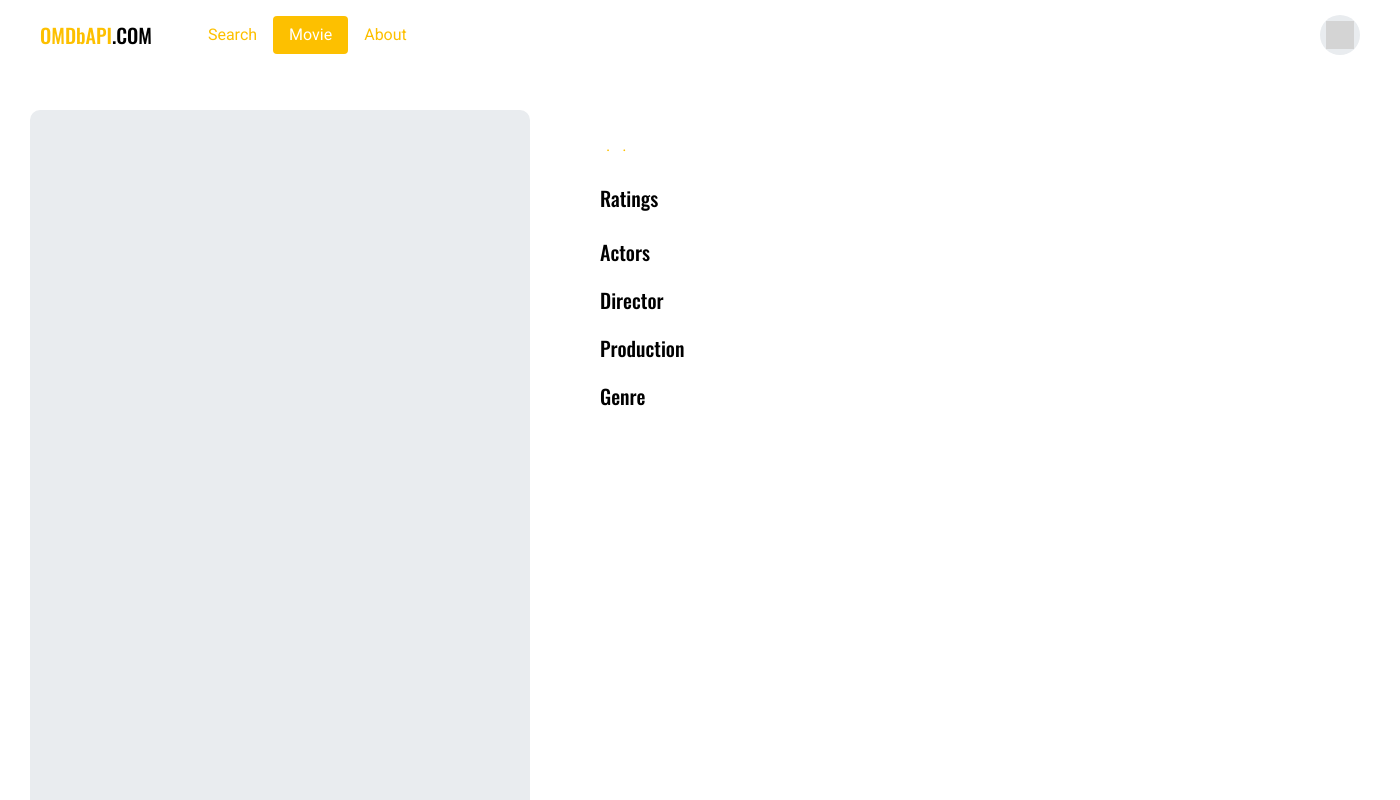
Test: About 페이지 이동 › 로고를 통해 About 페이지 이동
Step 1. Click the element with class "user" → click(1340, 35), box [1320, 15, 1360, 55]
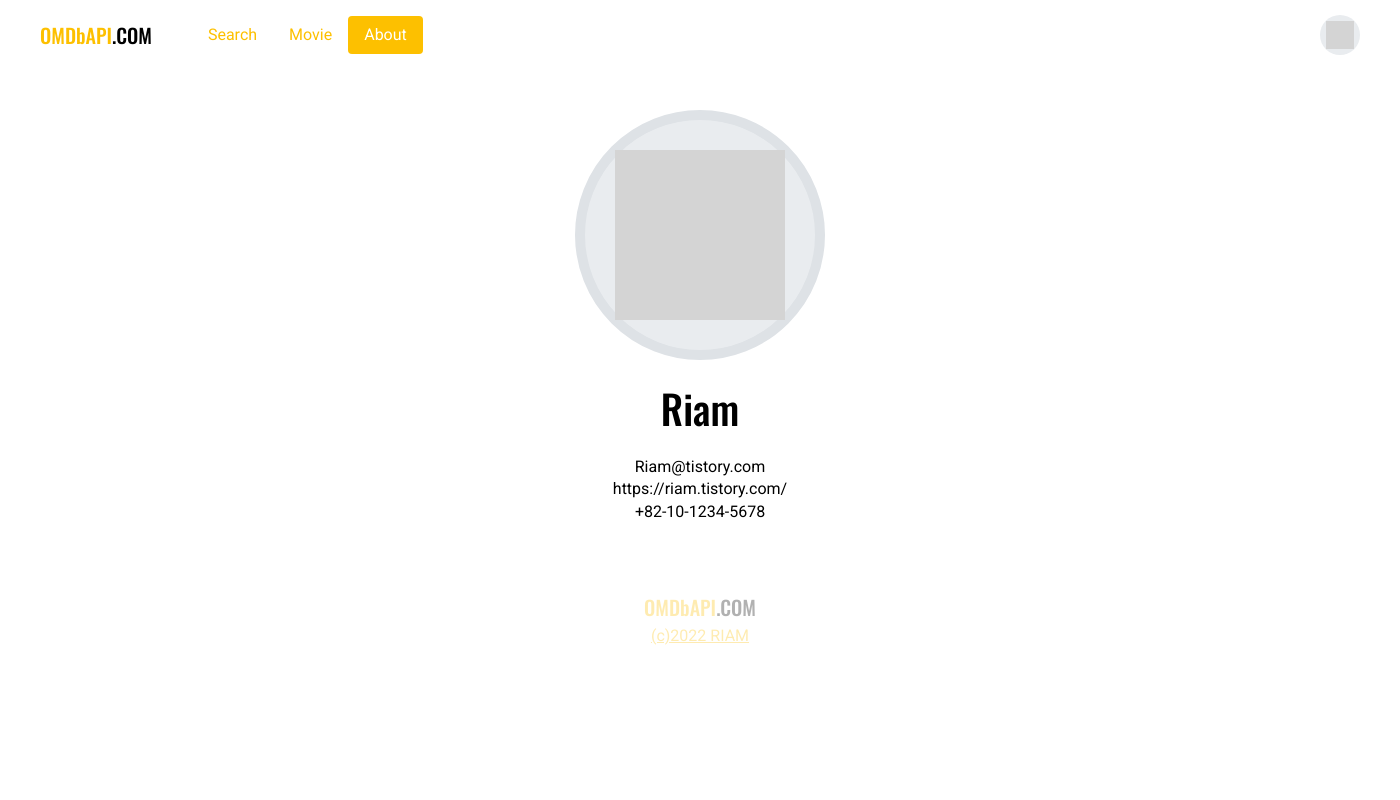
Expected: the link "About" is shown, [348, 16, 423, 54]
Now the text "Riam" is shown, box [661, 378, 739, 438]
